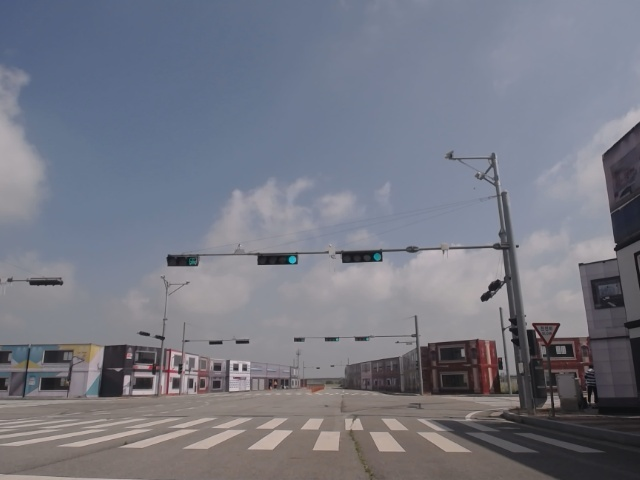straight_green_4: (257, 253, 297, 265), (341, 252, 382, 262)
